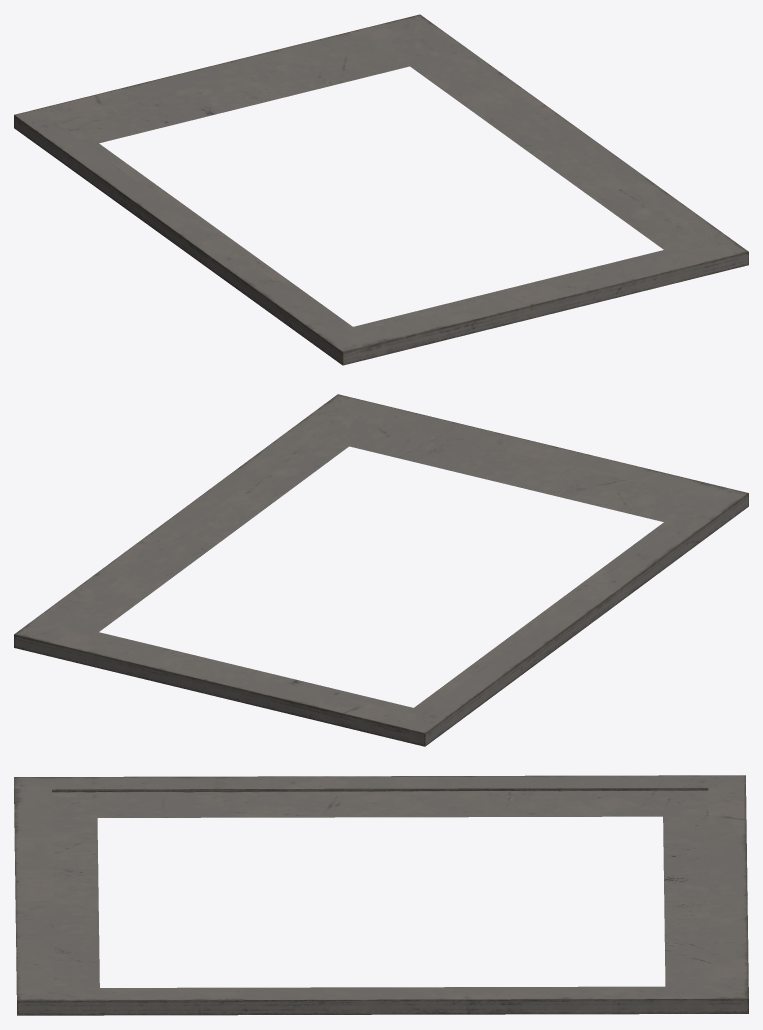
The picture shows the model from 3 angles, top to bottom: view 1: azimuth 30°, elevation 25°; view 2: azimuth 150°, elevation 25°; view 3: azimuth 270°, elevation 25°; orthographic projection. The views are drawn at different scales.
Visible parts, largest first — view 1: cube_roof_low_001; view 2: cube_roof_low_001; view 3: cube_roof_low_001.
Part boxes in pixels (x1,y1,x2,y2): cube_roof_low_001: [14, 14, 748, 365]; cube_roof_low_001: [14, 394, 748, 746]; cube_roof_low_001: [14, 775, 748, 1015].
Bounding box in the file's own units: 2192 × 67.94 × 3020.
